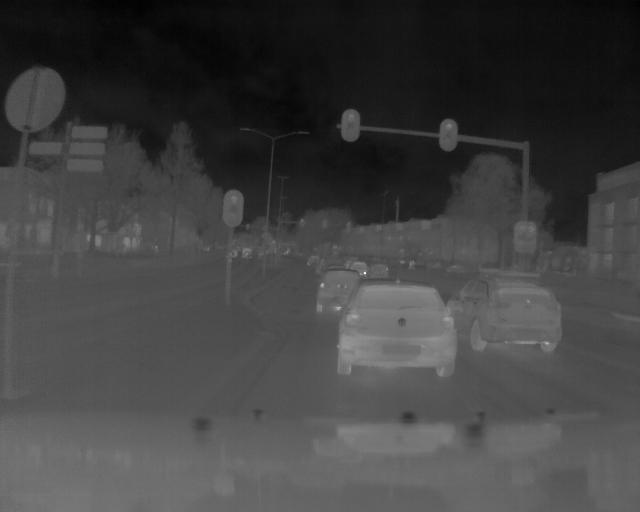car: (336, 278, 452, 385), (463, 275, 566, 361)
